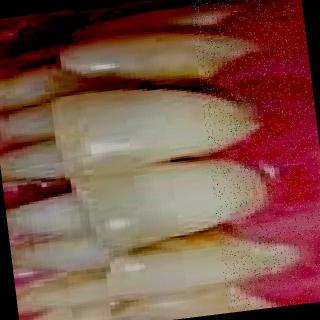Gum Swelling: (202, 13, 310, 284)
stains: (143, 228, 233, 264)
